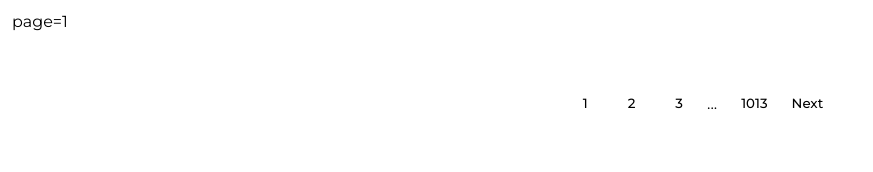
Test: Pagination › updates URL query parameter when page changes
Click the button "2" at [632, 103], box [612,81,651,125]
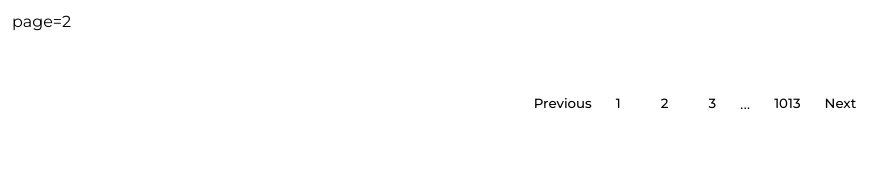
Now the text with test id "search-params" reads "page=2", box [12,12,71,31]
